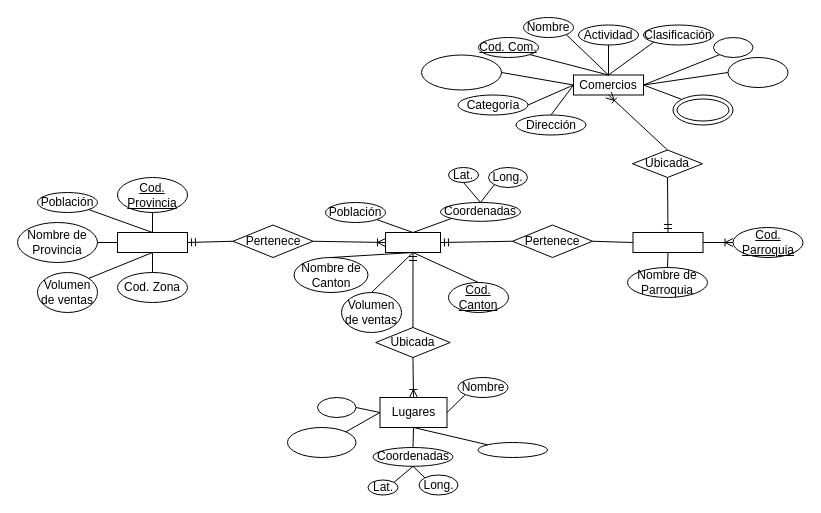
Image size: 821x513. Some labels were removed from this diagram. The centre of each missing label's shape, as x and y in pixels:
"Cantón" belongs at point 412,242.
"Cod. Lugar" belongs at point 512,450.
"Correo Electrónico" belongs at point 461,72.
"Parroquia" belongs at point 667,242.
"Provincia" belongs at point 152,242.
"Referencia" belongs at point 757,72.
"Teléfono" belongs at point 702,109.
"Tipo" belongs at point 336,407.
"Tipo de Lugar" belongs at point 321,442.
"Web" belongs at point 732,47.
